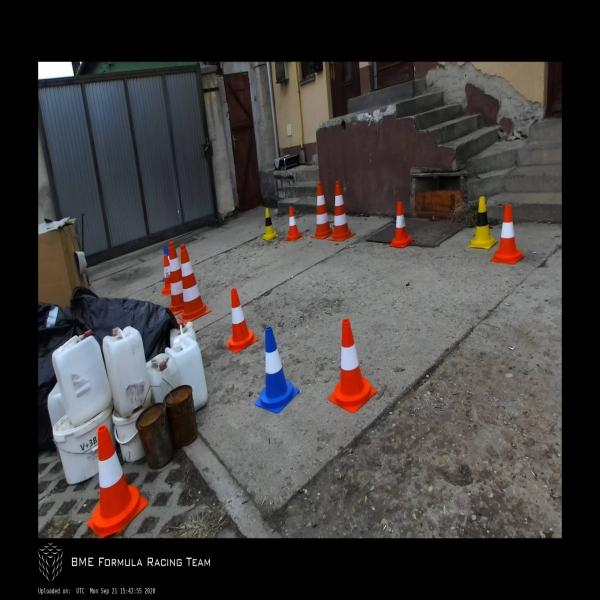blue_cone: (254, 326, 300, 414), (162, 246, 169, 283)
large_orange_cone: (177, 243, 212, 323), (328, 180, 356, 242), (166, 241, 184, 317), (310, 183, 333, 239)
orange_cone: (86, 423, 148, 538), (328, 318, 378, 413), (490, 203, 525, 266), (226, 288, 258, 353), (389, 201, 414, 248), (285, 205, 303, 241), (161, 254, 172, 297)
yellow_cone: (469, 196, 499, 250), (262, 207, 279, 240)
